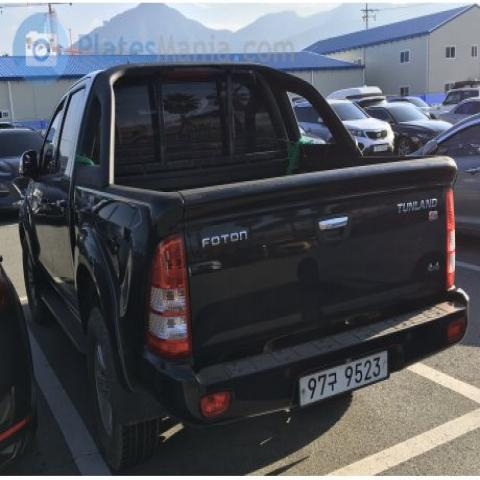LP: (294, 335, 400, 404)
